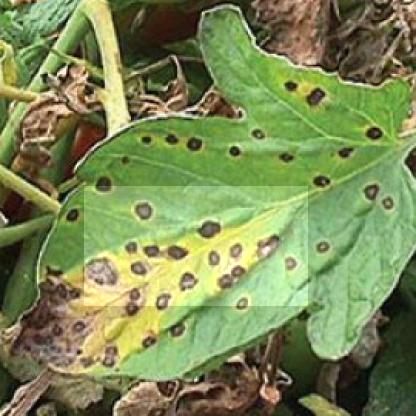black-spot: (84, 186, 308, 306), (253, 81, 340, 168)
